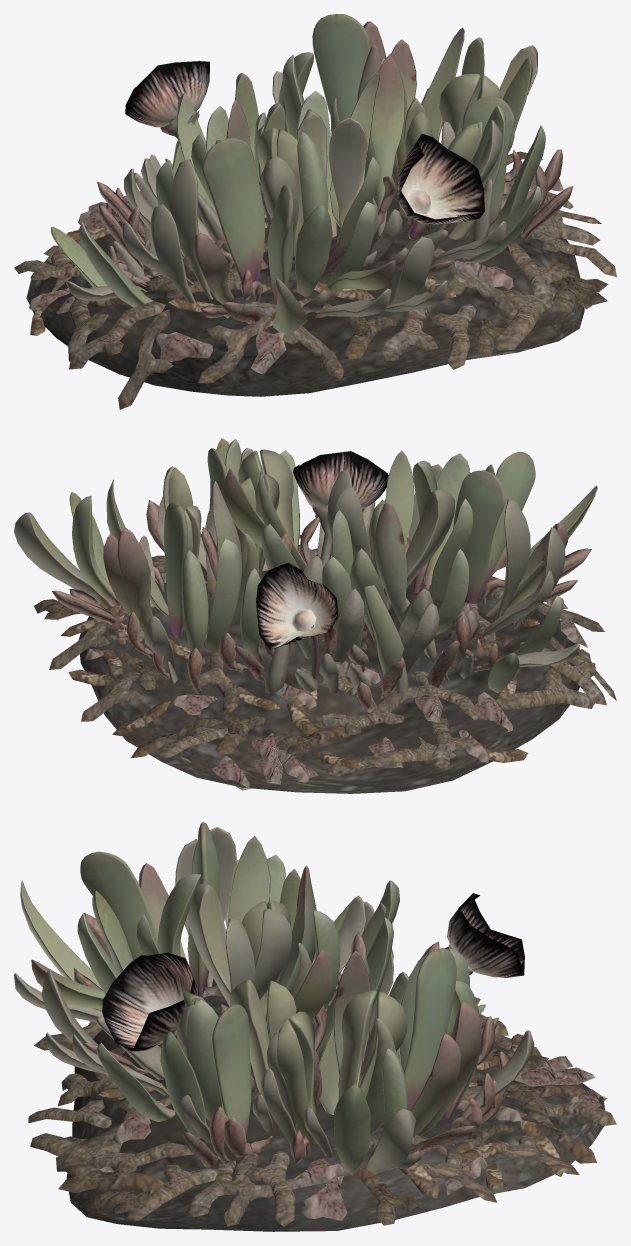
Rendered from cheiridopsis_succulent_g.gltf.
3 views of the same model, one above another, from view 1: azimuth 30°, elevation 25°; view 2: azimuth 150°, elevation 25°; view 3: azimuth 270°, elevation 25° (orthographic). The views are drawn at different scales.
Visible parts, largest first — view 1: cheiridopsis_succulent_h_LOD0; view 2: cheiridopsis_succulent_h_LOD0; view 3: cheiridopsis_succulent_h_LOD0.
Part boxes in pixels (x1,y1,x2,y2): cheiridopsis_succulent_h_LOD0: (14,14,616,409); cheiridopsis_succulent_h_LOD0: (14,438,616,793); cheiridopsis_succulent_h_LOD0: (14,822,616,1231).
Bounding box in the file's own units: 0.6024 × 0.2385 × 0.5336.
Materials: 2 (2 with a texture image).
